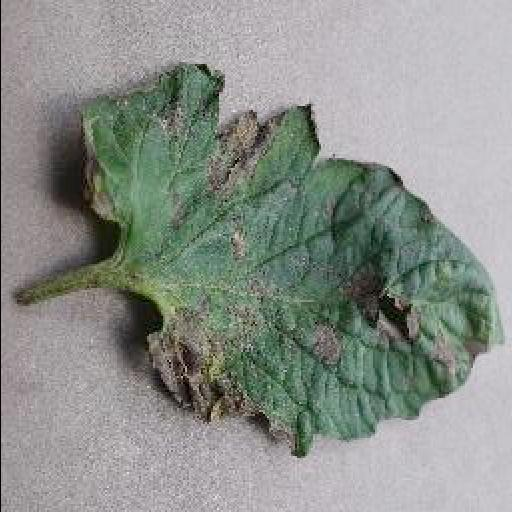disease_tomato: (80, 60, 506, 458)
